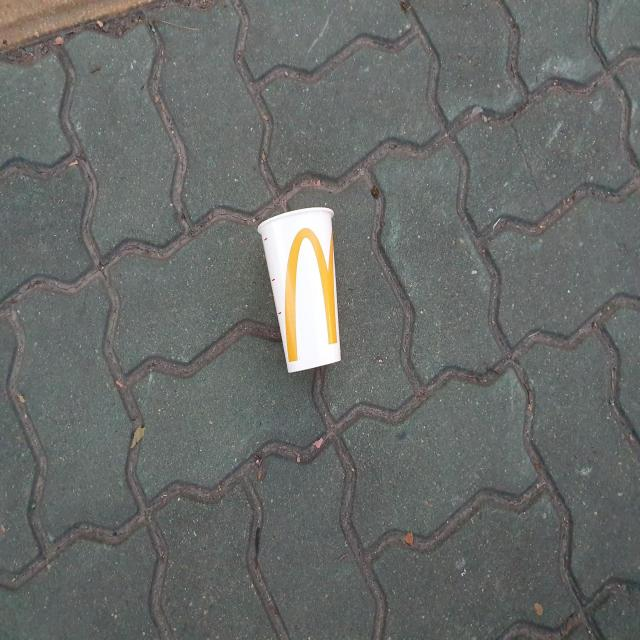paperpack: (258, 207, 341, 372)
